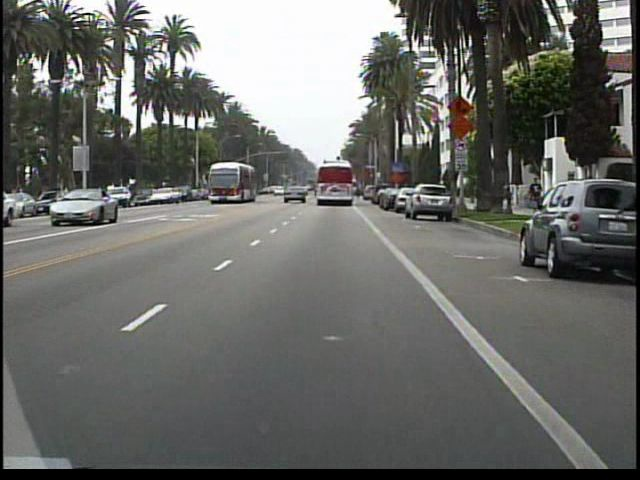person: (525, 173, 546, 223)
